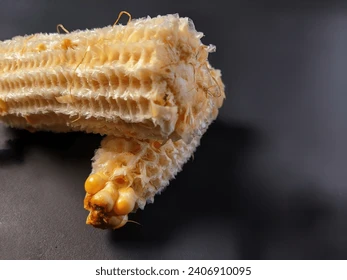corn: (5, 19, 218, 233)
